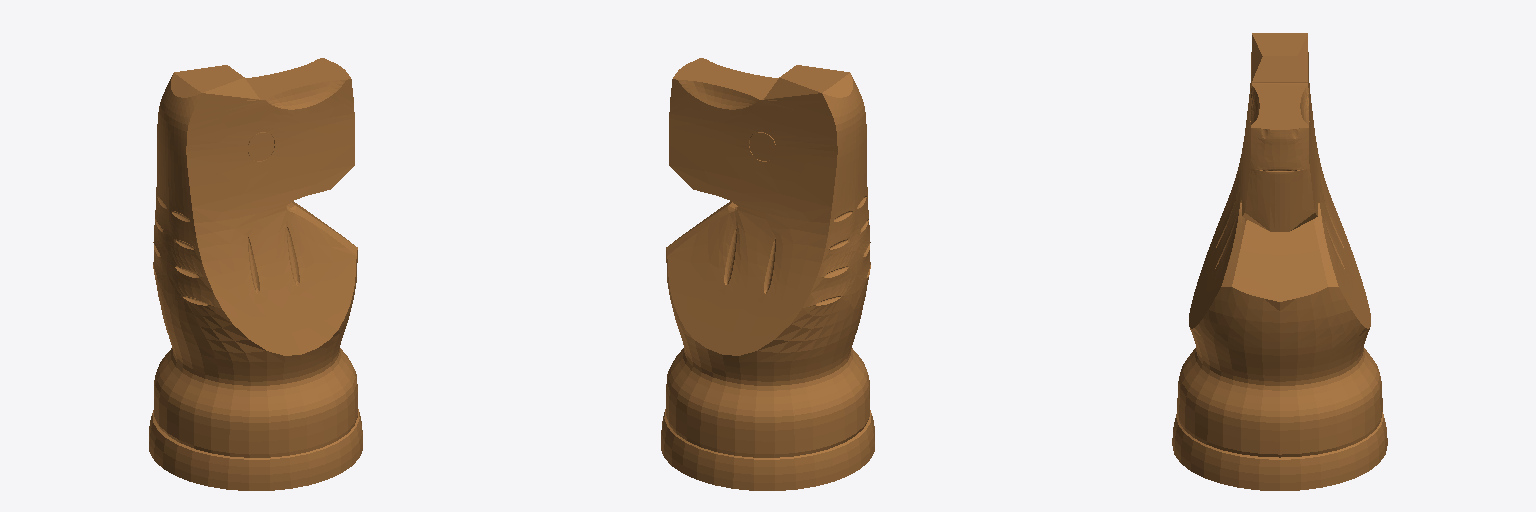
The model's file is Horse.obj.
3 views of the same model, side by side, from view 1: azimuth 30°, elevation 25°; view 2: azimuth 150°, elevation 25°; view 3: azimuth 270°, elevation 25° (orthographic).
Parts seen in each view (by area): view 1: Конь_белый; view 2: Конь_белый; view 3: Конь_белый.
Part boxes in pixels (x1,y1,x2,y2): Конь_белый: (149, 58, 362, 490); Конь_белый: (661, 58, 874, 490); Конь_белый: (1172, 33, 1387, 490).
Bounding box in the file's own units: 1.9 × 3.7 × 1.9.